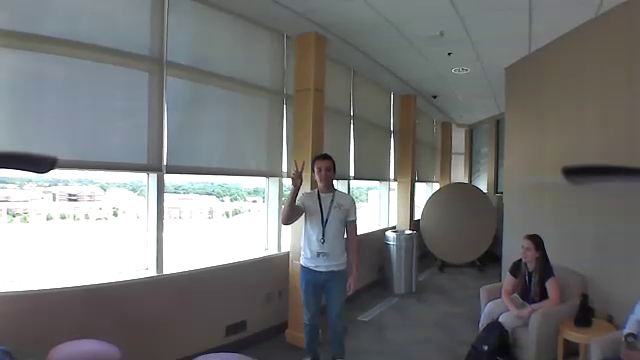peace: (290, 156, 310, 195)
